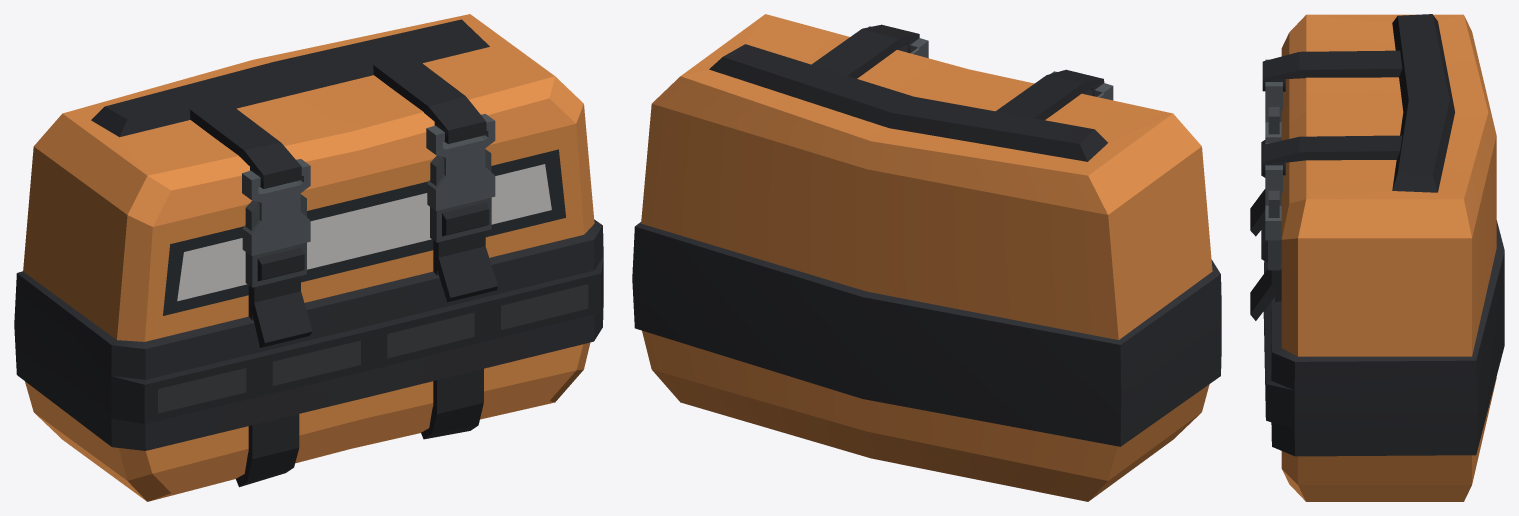
File: worlds_SM_Chr_Attach_Pouch_07.gltf
3 views of the same model, side by side, from view 1: azimuth 30°, elevation 25°; view 2: azimuth 150°, elevation 25°; view 3: azimuth 270°, elevation 25° (orthographic). The views are drawn at different scales.
Parts seen in each view (by area): view 1: SM_Chr_Attach_Pouch_07; view 2: SM_Chr_Attach_Pouch_07; view 3: SM_Chr_Attach_Pouch_07.
Boxes of the visible parts, x1,y1,x2,y2 form: SM_Chr_Attach_Pouch_07: (14, 14, 603, 501); SM_Chr_Attach_Pouch_07: (632, 14, 1221, 501); SM_Chr_Attach_Pouch_07: (1250, 14, 1504, 501).
Bounding box in the file's own units: 0.3206 × 0.2139 × 0.1547.
Materials: 1 (1 with a texture image).
